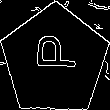P_W: (30, 41, 79, 80)
